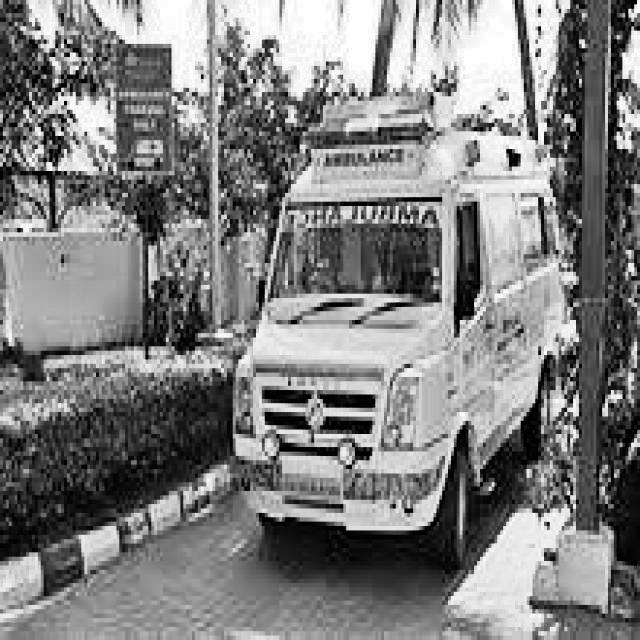LCV: (232, 101, 457, 532)
